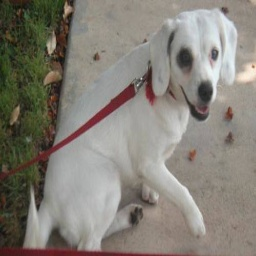dog: (36, 7, 238, 256)
